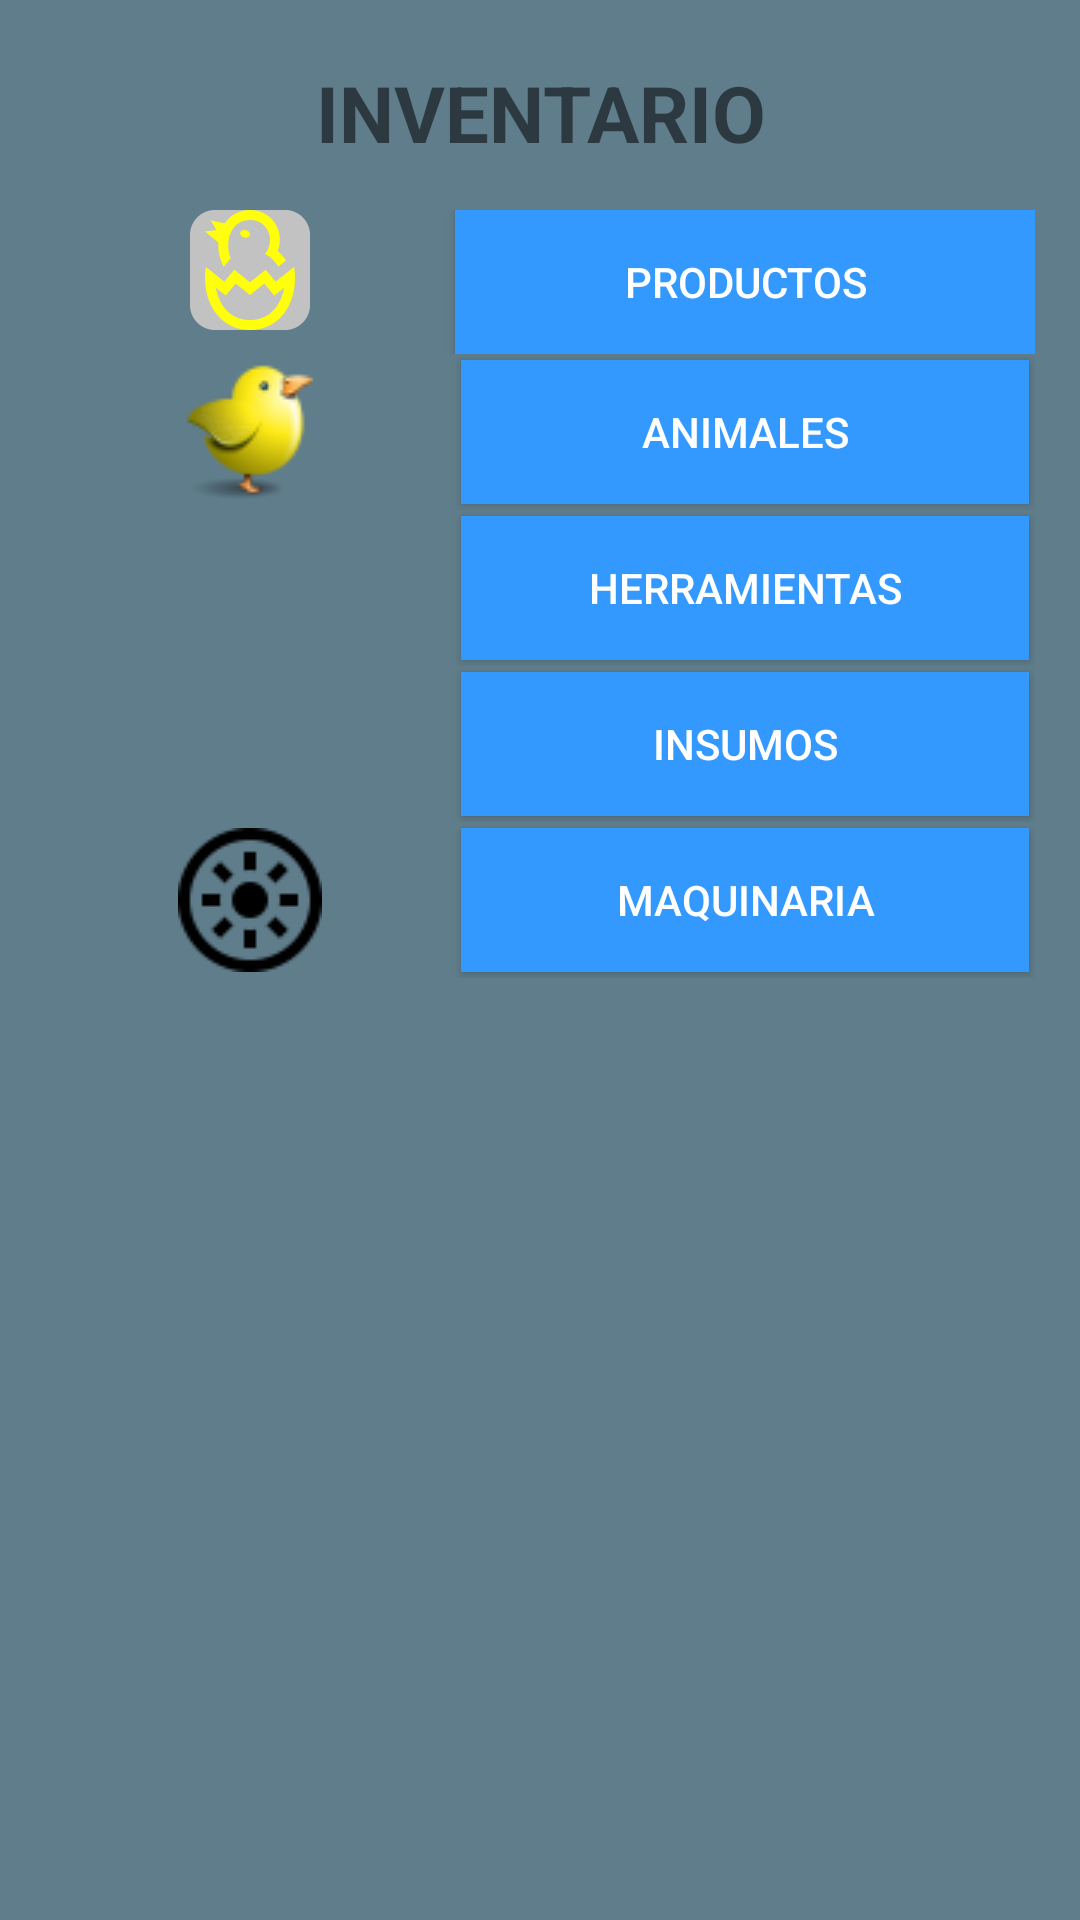

Screen size 1080px x 1920px. Icon name, then its box in pixels as (x1, y1, x2, y2):
rueda: (178, 828, 322, 972)
